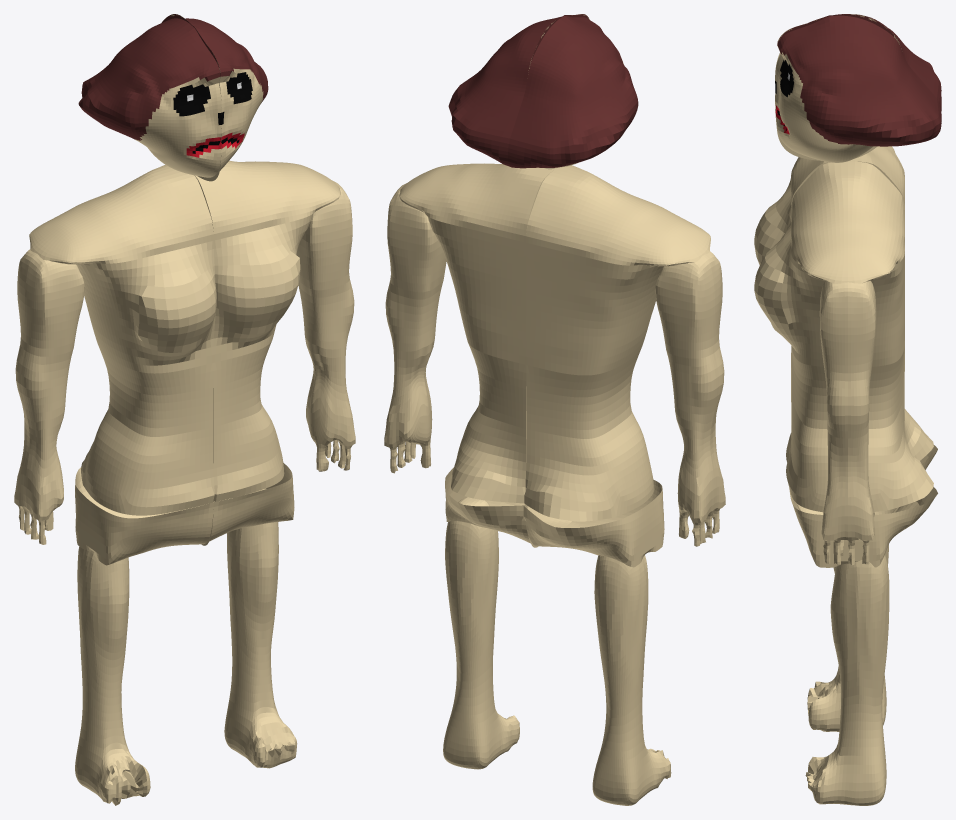
Rendered from fdoll.fbx.
3 views of the same model, side by side, from view 1: azimuth 30°, elevation 25°; view 2: azimuth 150°, elevation 25°; view 3: azimuth 270°, elevation 25° (orthographic).
Parts seen in each view (by area): view 1: Cube.002, Cube.003, Cube.005, Cube.004, Cube, Cube.001; view 2: Cube.002, Cube.003, Cube.005, Cube, Cube.004, Cube.001; view 3: Cube.002, Cube.003, Cube, Cube.001, Cube.004.
Part boxes in pixels (<box>): Cube.002: <box>29,160,340,565</box>; Cube.003: <box>78,14,268,181</box>; Cube.005: <box>14,249,84,544</box>; Cube.004: <box>75,546,150,805</box>; Cube: <box>224,488,297,768</box>; Cube.001: <box>296,180,355,471</box>; Cube.002: <box>399,163,710,567</box>; Cube.003: <box>448,14,638,169</box>; Cube.005: <box>655,251,725,546</box>; Cube: <box>443,497,519,769</box>; Cube.004: <box>592,555,671,805</box>; Cube.001: <box>384,183,446,473</box>; Cube.002: <box>754,146,937,567</box>; Cube.003: <box>775,14,941,162</box>; Cube: <box>805,555,889,805</box>; Cube.001: <box>819,280,876,565</box>; Cube.004: <box>807,544,888,731</box>.
Bounding box in the file's own units: 1318 × 2896 × 658.
